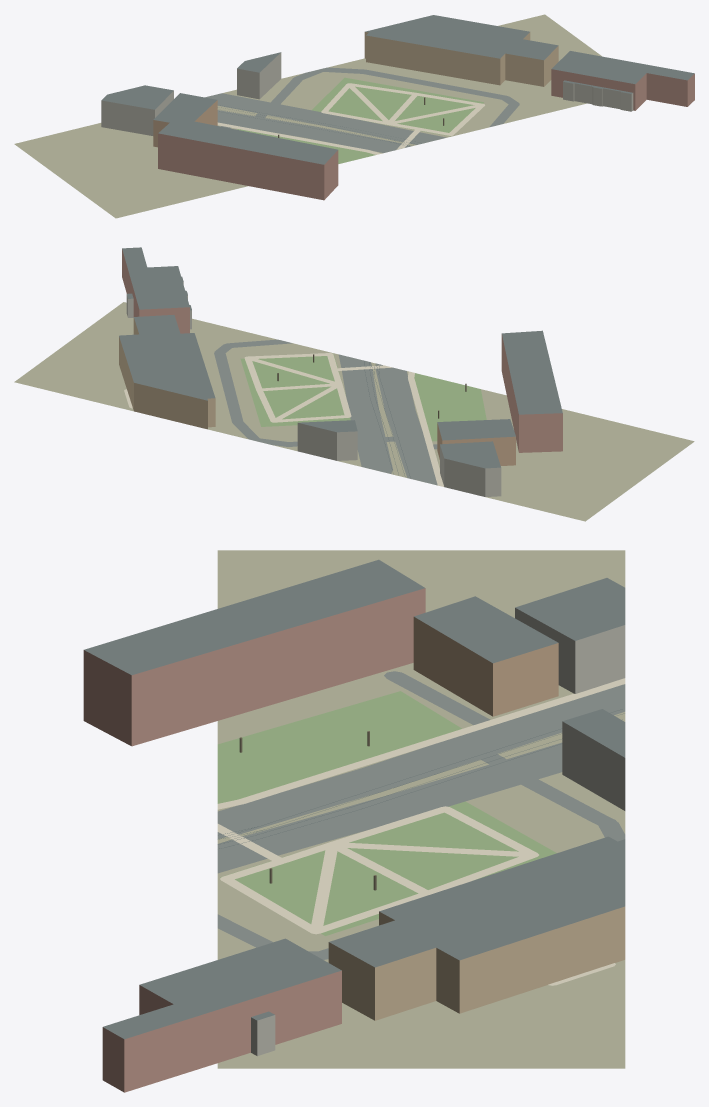
File: sector-2_-8.glb
The picture shows the model from 3 angles, top to bottom: view 1: azimuth 30°, elevation 25°; view 2: azimuth 150°, elevation 25°; view 3: azimuth 270°, elevation 25°; orthographic projection. The views are drawn at different scales.
Visible parts, largest first — view 1: 2:-8-ground, 2:-8-facade, 2:-8-roof, 2:-8-road, 2:-8-park, 2:-8-paving; view 2: 2:-8-ground, 2:-8-roof, 2:-8-facade, 2:-8-road, 2:-8-park, 2:-8-paving; view 3: 2:-8-facade, 2:-8-ground, 2:-8-roof, 2:-8-park, 2:-8-road, 2:-8-paving, 2:-8-rail.
Boxes of the visible parts, box(x1,y1,x2,y2) form: 2:-8-ground: box(14, 14, 601, 218); 2:-8-facade: box(101, 32, 694, 200); 2:-8-roof: box(101, 15, 694, 164); 2:-8-road: box(205, 67, 519, 152); 2:-8-park: box(237, 77, 483, 163); 2:-8-paving: box(217, 83, 484, 154); 2:-8-ground: box(14, 302, 694, 521); 2:-8-roof: box(119, 247, 562, 468); 2:-8-facade: box(119, 249, 562, 496); 2:-8-road: box(214, 339, 437, 485); 2:-8-park: box(240, 353, 486, 441); 2:-8-paving: box(124, 353, 443, 486); 2:-8-facade: box(83, 588, 625, 1092); 2:-8-ground: box(217, 550, 625, 1068); 2:-8-roof: box(84, 559, 625, 1039); 2:-8-park: box(217, 691, 556, 935); 2:-8-road: box(217, 671, 625, 959); 2:-8-paving: box(217, 678, 625, 985); 2:-8-rail: box(217, 709, 624, 848).
Bounding box in the file's own units: 209 × 12.8 × 88.33.
